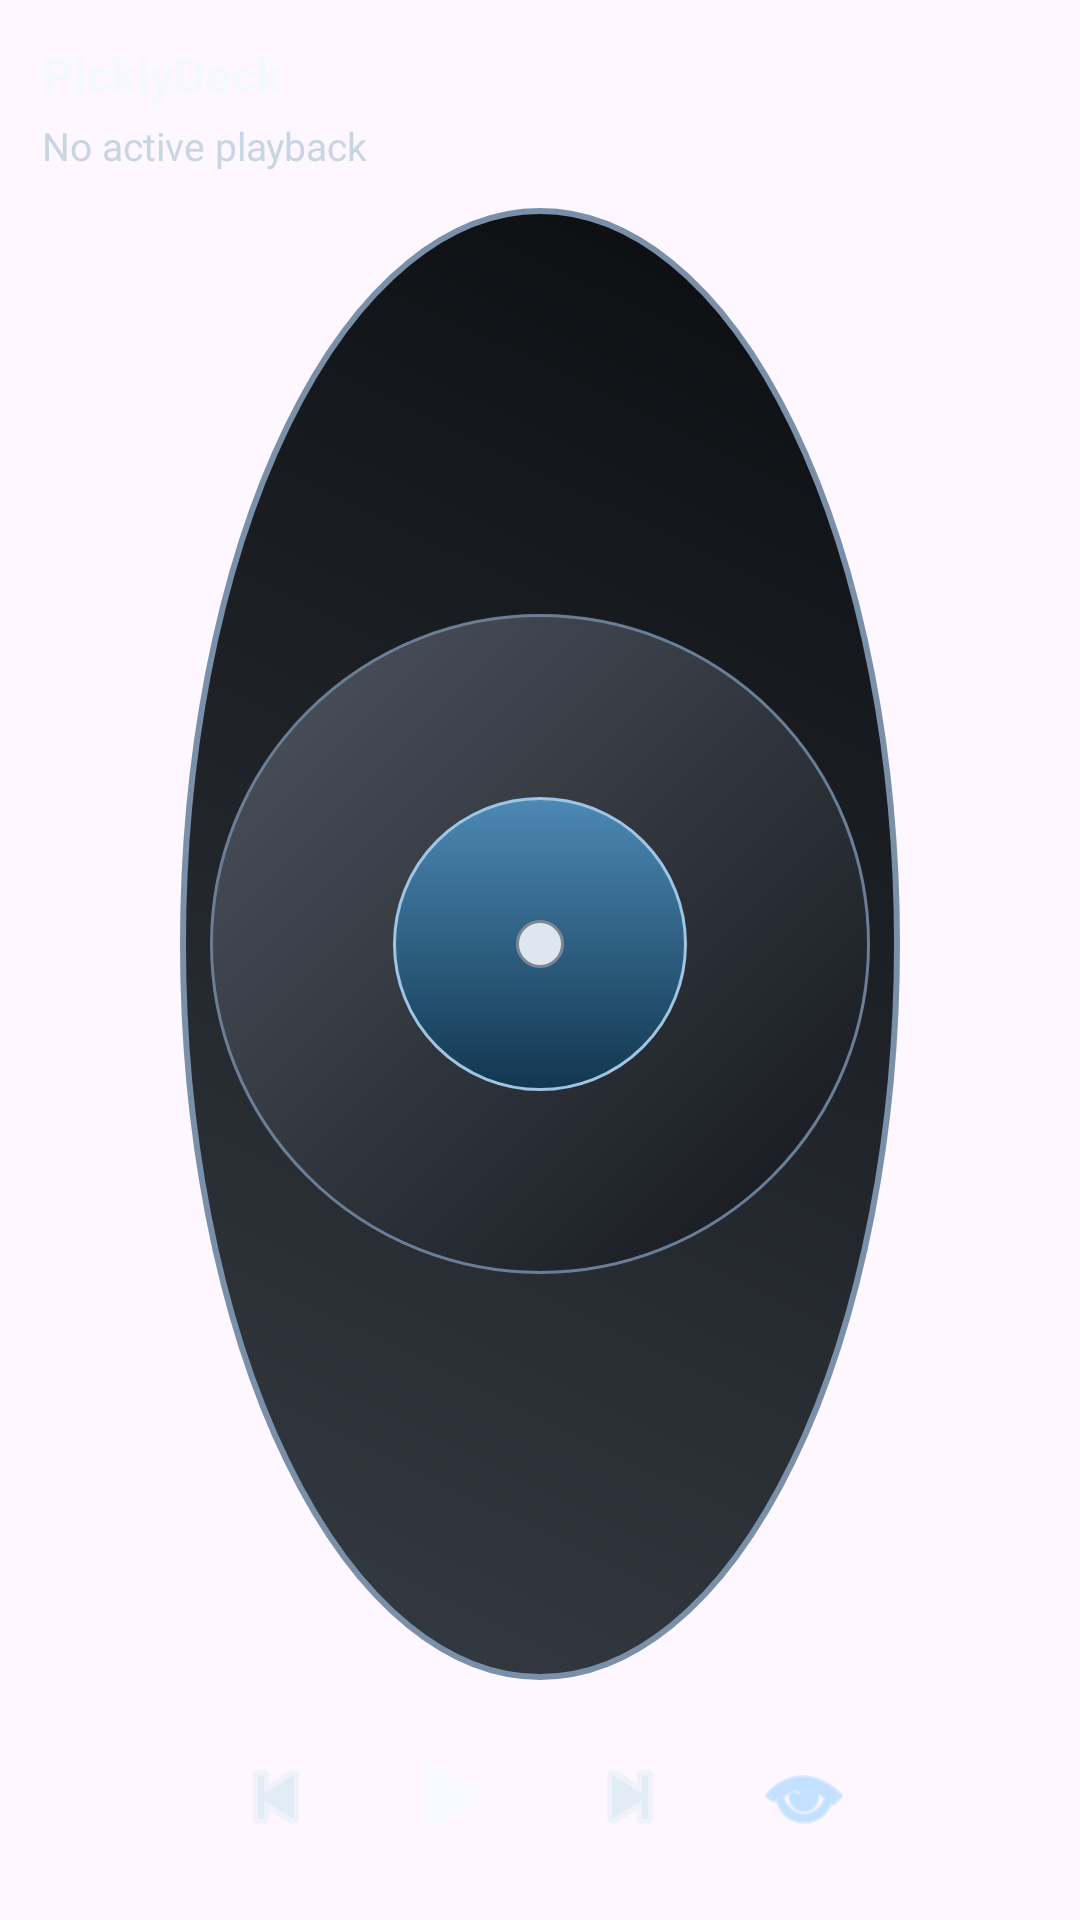

Icons on this 1080w x 1920h Android screen, each with its box as BBox(x1, y1, x2, y2):
Next: BBox(612, 1775, 648, 1819)
Previous: BBox(258, 1775, 294, 1819)
